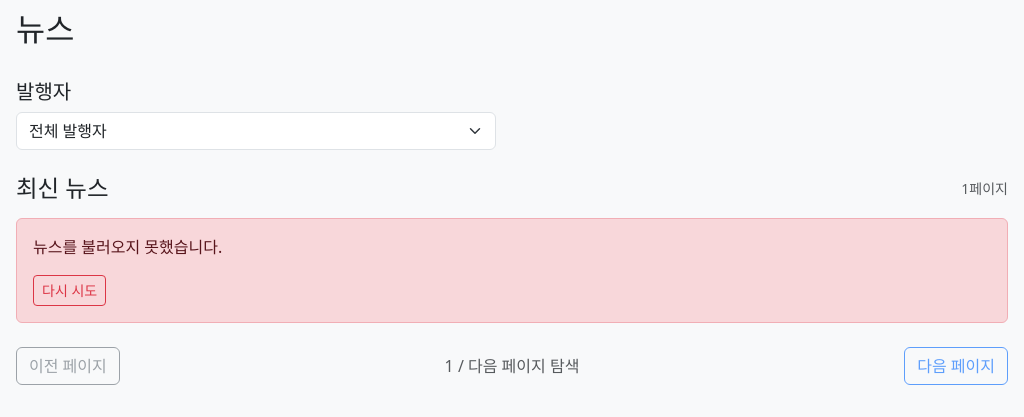
it: NewsView › empty와 error를 구분하고 실패한 페이지를 재시도한다
This screenshot has width=1024, height=417.
Check: the message shows "뉴스를 불러오지 못했습니다.", box [33,236,222,258]
Click the button "다시 시도".
click(70, 291)  # box [33,275,106,306]
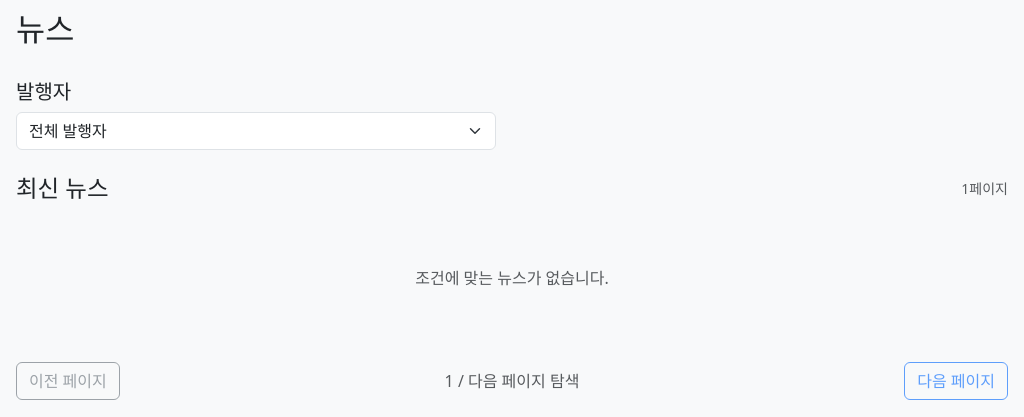
Check: the text "조건에 맞는 뉴스가 없습니다." is shown, box [415,267,609,289]
